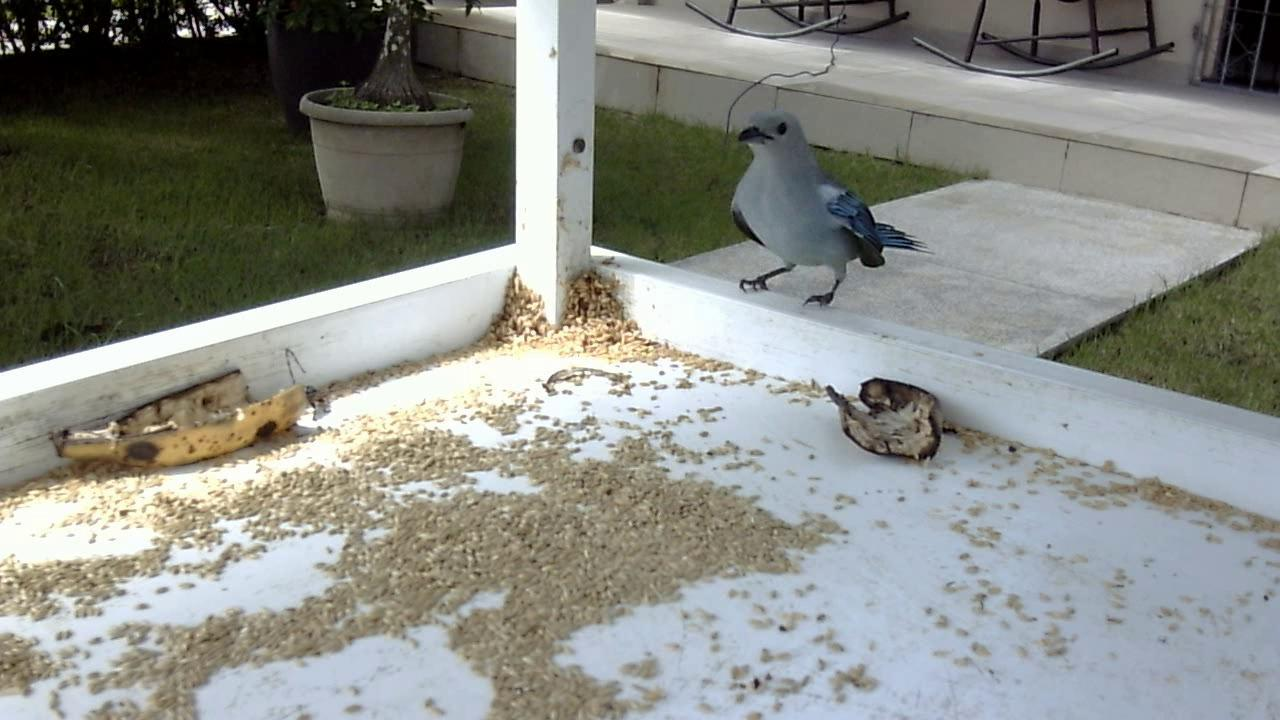sanhaco_da_amazonia: (721, 111, 933, 316)
